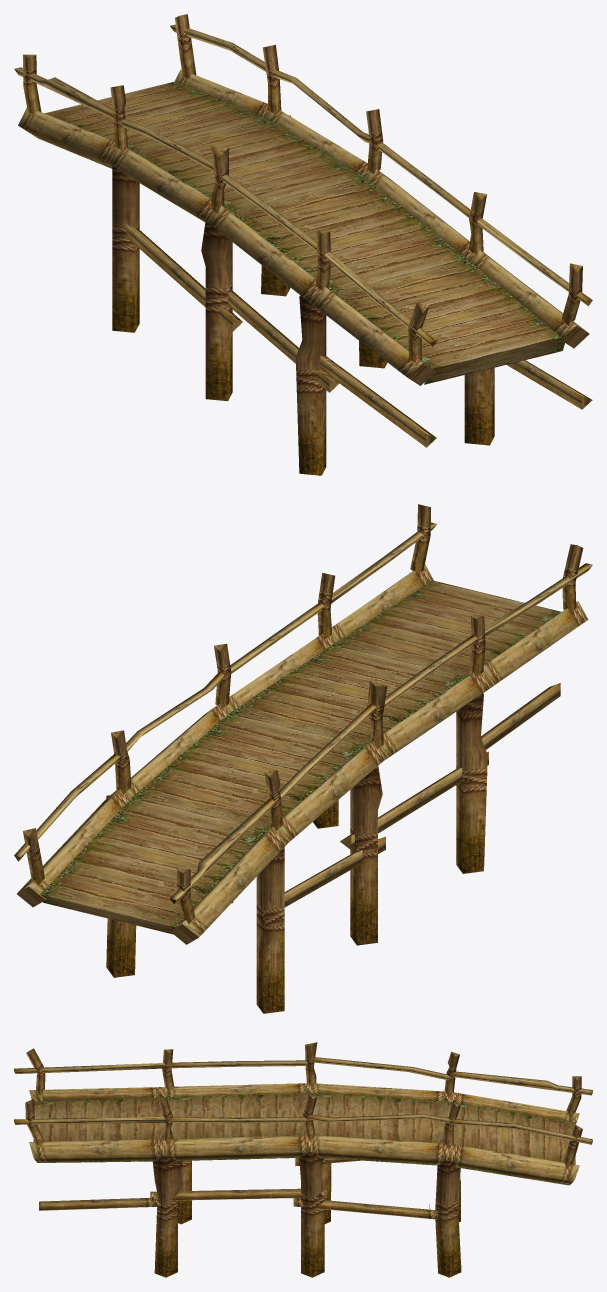
Rendered from Dingqingchuan_wujian_04.FBX.
3 renders of one model, top to bottom at view 1: azimuth 30°, elevation 25°; view 2: azimuth 150°, elevation 25°; view 3: azimuth 270°, elevation 25°, orthographic. The views are drawn at different scales.
Parts seen in each view (by area): view 1: Box16; view 2: Box16; view 3: Box16.
Boxes of the visible parts, x1,y1,x2,y2 form: Box16: (14, 14, 592, 475); Box16: (14, 504, 592, 1013); Box16: (14, 1042, 592, 1277).
Bounding box in the file's own units: 3.31 × 4.12 × 12.2.
